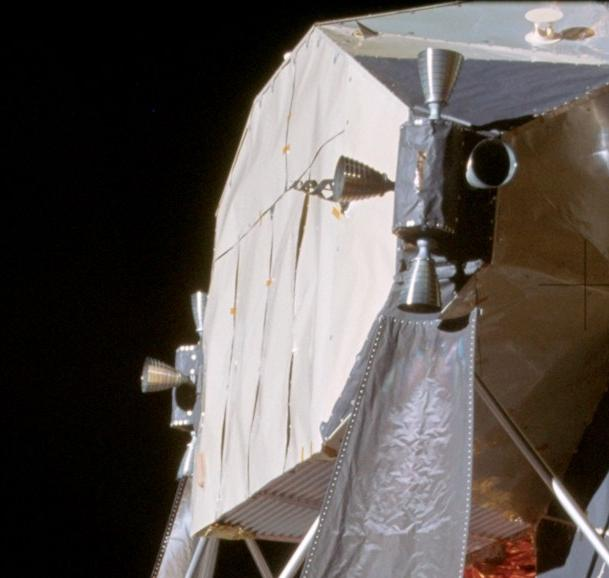body: (185, 0, 609, 554)
thruster: (329, 154, 400, 209), (415, 46, 467, 120), (395, 238, 444, 314), (463, 137, 517, 193), (141, 355, 192, 398), (173, 433, 201, 486), (191, 286, 205, 336)
